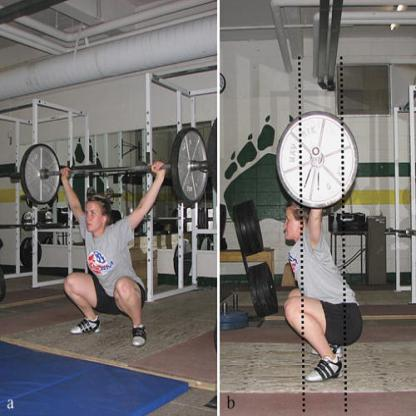Barbell: (272, 106, 362, 214), (168, 122, 212, 206)
